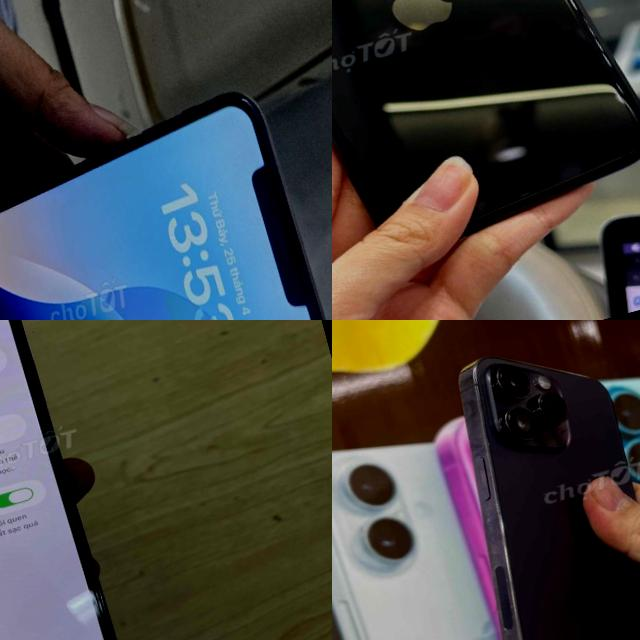scratch: (461, 483, 527, 574), (474, 589, 552, 640)
